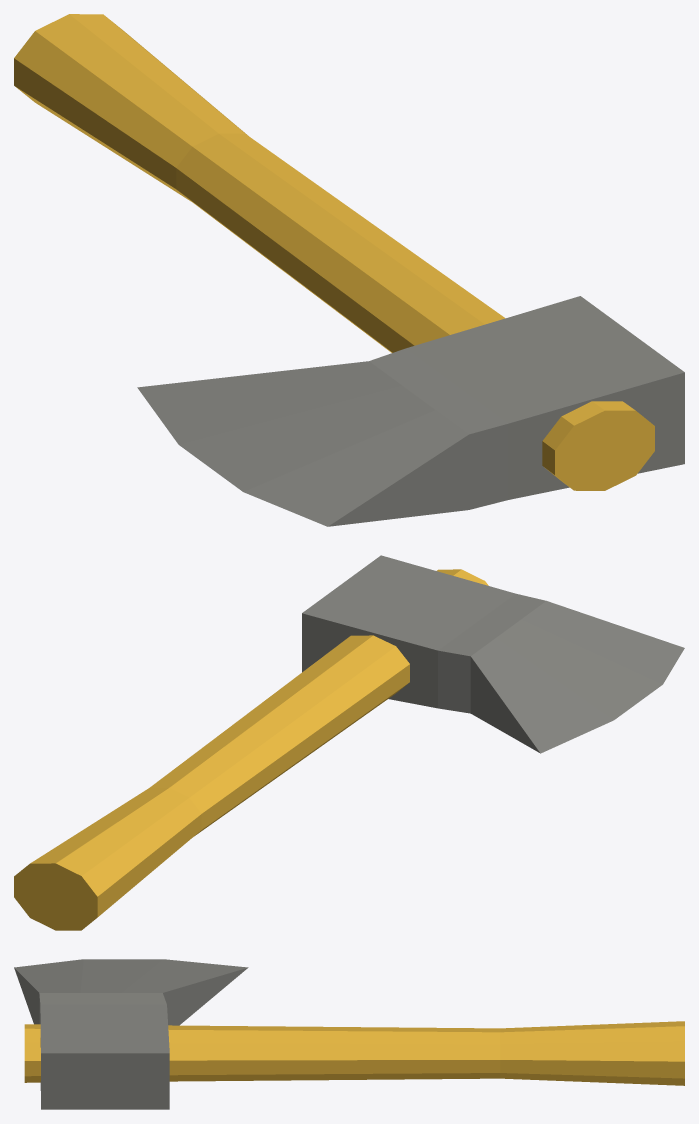
File: Hatchet.fbx
The picture shows the model from 3 angles, top to bottom: view 1: azimuth 30°, elevation 25°; view 2: azimuth 150°, elevation 25°; view 3: azimuth 270°, elevation 25°; orthographic projection. The views are drawn at different scales.
Visible parts, largest first — view 1: Hatchet; view 2: Hatchet; view 3: Hatchet.
Part boxes in pixels (x1=…): Hatchet: x1=14, y1=14, x2=684, y2=526; Hatchet: x1=14, y1=555, x2=684, y2=930; Hatchet: x1=14, y1=959, x2=684, y2=1109.
Bounding box in the file's own units: 51.79 × 11.15 × 120.
